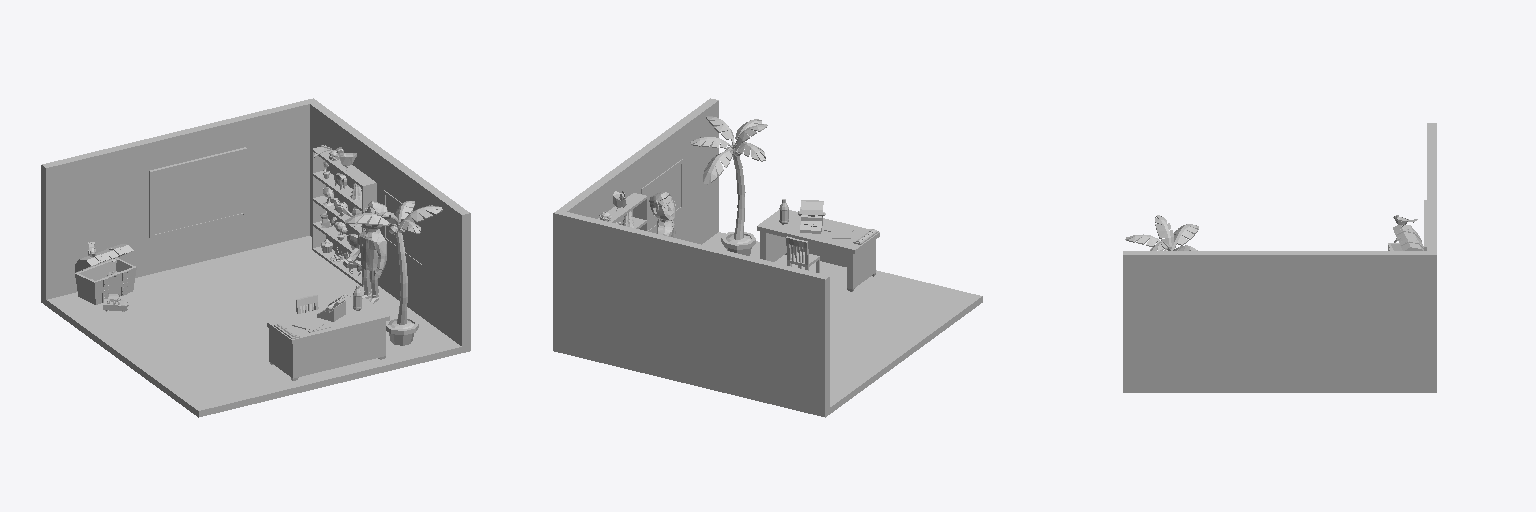
Rendered from withTexCoords.obj.
The picture shows the model from 3 angles: view 1: azimuth 30°, elevation 25°; view 2: azimuth 150°, elevation 25°; view 3: azimuth 270°, elevation 25°; orthographic projection.
Size of the model in its own units: 15.49 by 7.72 by 15.49.